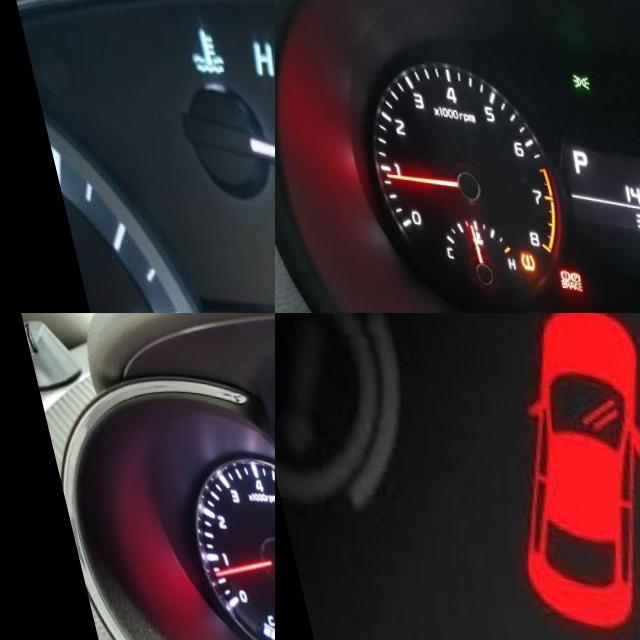SideLamp: (563, 64, 583, 82)
